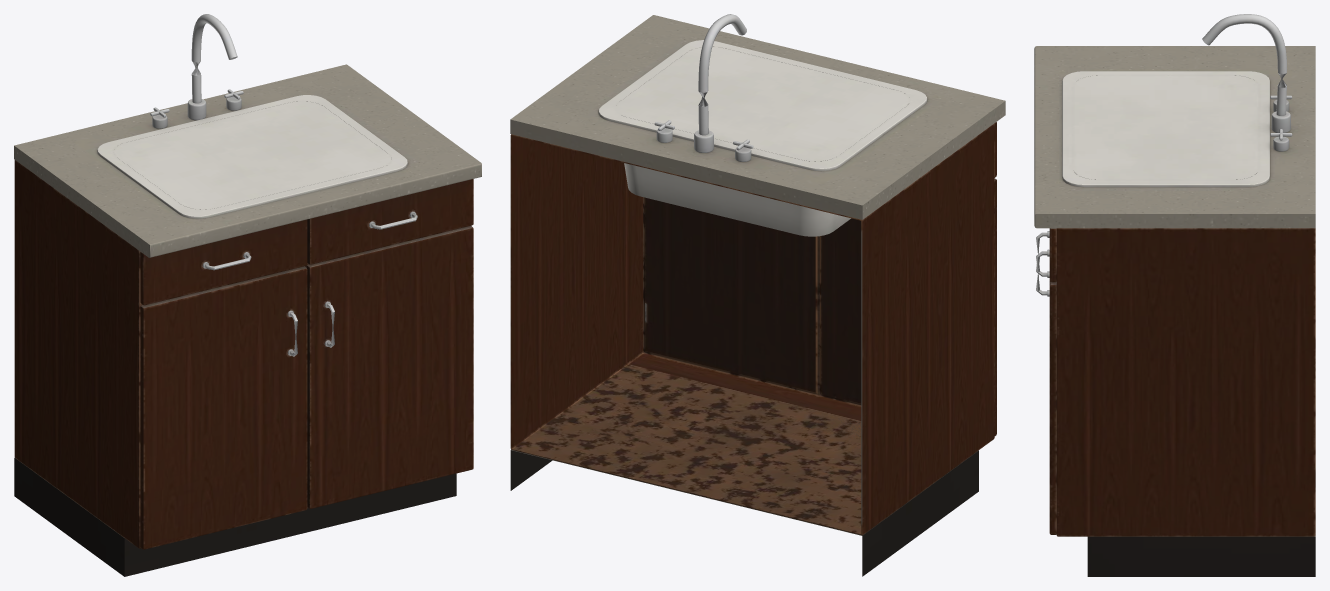
Rendered from kit_sink_90.glb.
The picture shows the model from 3 angles, left to right: view 1: azimuth 30°, elevation 25°; view 2: azimuth 150°, elevation 25°; view 3: azimuth 270°, elevation 25°; orthographic projection. The views are drawn at different scales.
Parts seen in each view (by area): view 1: kit_sink_90; view 2: kit_sink_90; view 3: kit_sink_90.
Boxes of the visible parts, x1,y1,x2,y2 form: kit_sink_90: (14, 14, 481, 576); kit_sink_90: (510, 14, 1005, 576); kit_sink_90: (1034, 14, 1315, 576).
Size of the model in its own units: 0.8981 by 1.19 by 0.635.
Materials: 1 (1 with a texture image).
